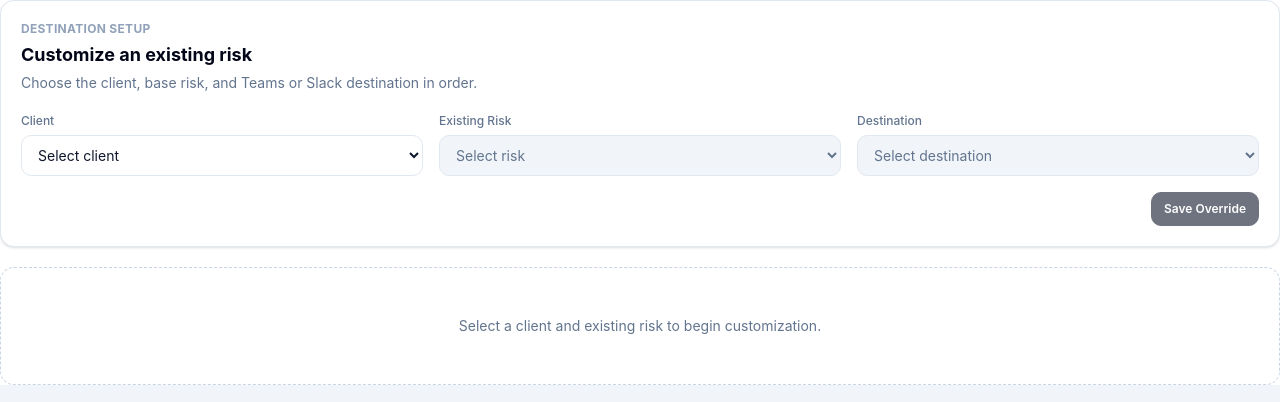
Test: CustomizeExistingRisk › enforces selection order and displays only safe Teams and Slack metadata
Check: the dropdown labelled "Existing Risk" is disabled, box [439,135,841,176]
Check: the dropdown labelled "Destination" is disabled, box [857,135,1259,176]
Select "Acme" in the dropdown labelled "Client" at coordinates (222, 156), box [21,135,423,176]
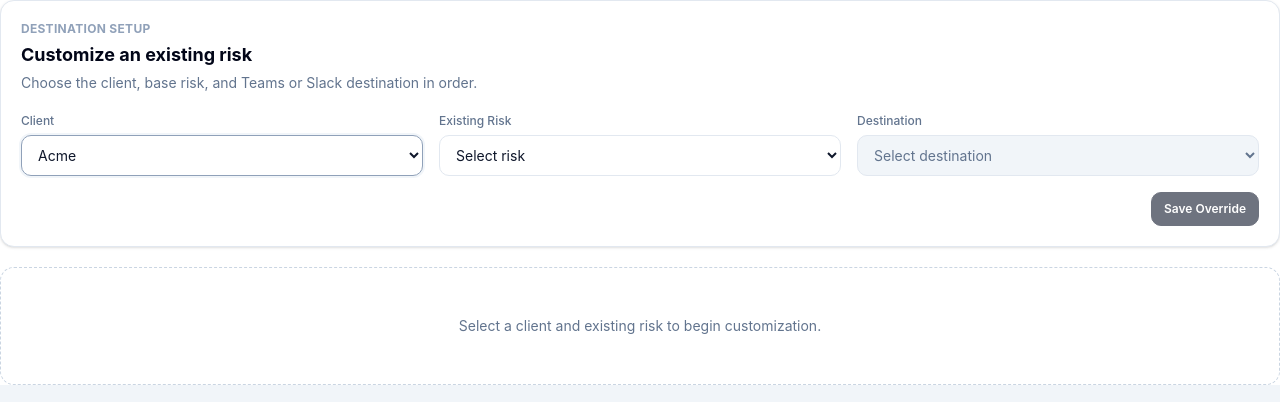
Check: the dropdown labelled "Existing Risk" is enabled
Select "Base Risk Title · RSK-1 · high" in the dropdown labelled "Existing Risk" at coordinates (640, 156), box [439,135,841,176]
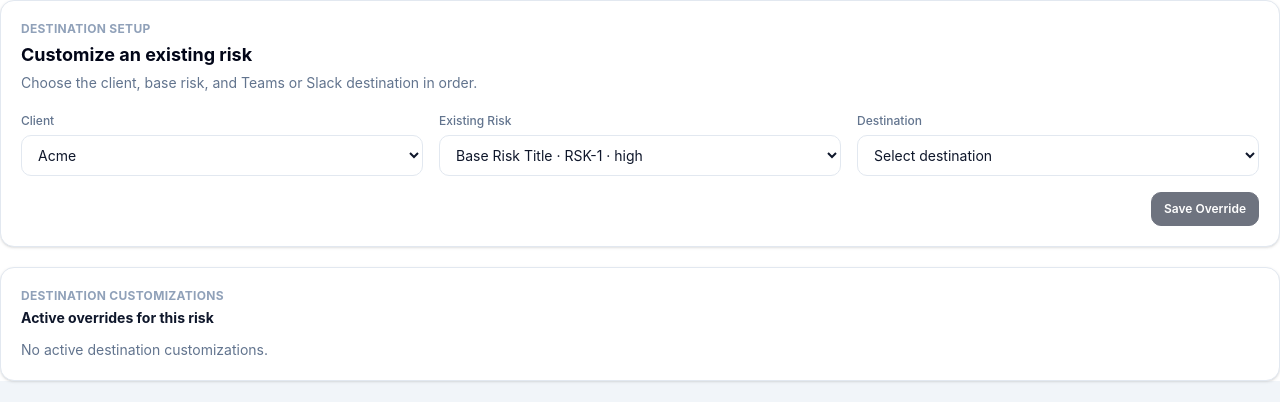
Check: the dropdown labelled "Destination" is enabled, box [857,135,1259,176]
